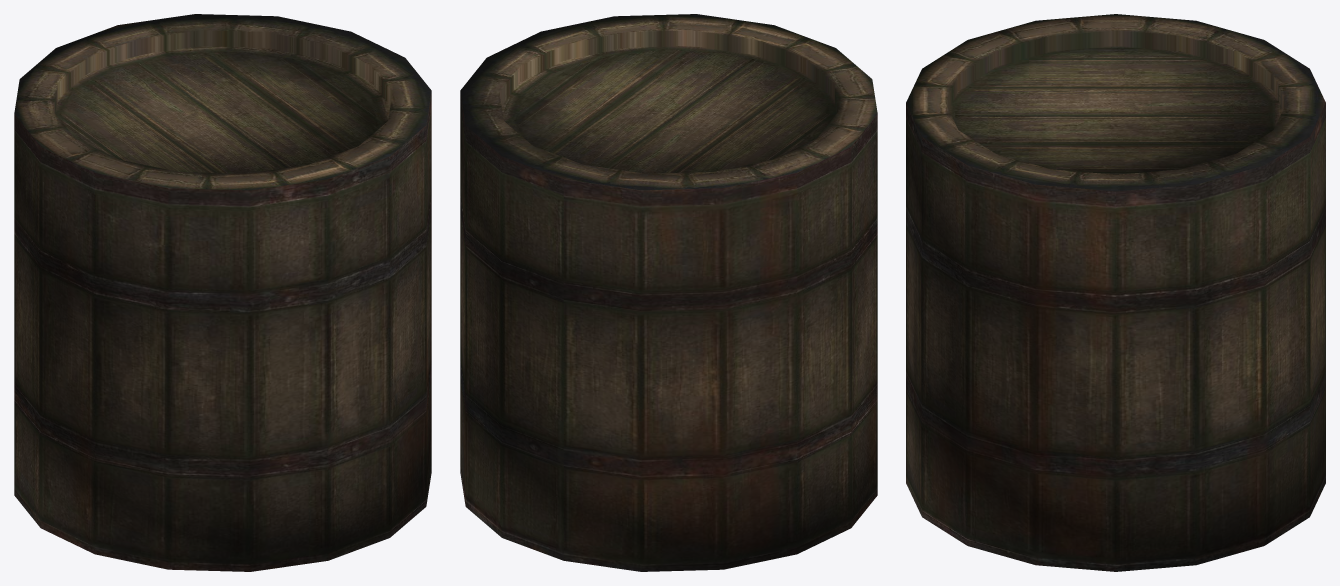
File: barrilv2.fbx
3 renders of one model, left to right at view 1: azimuth 30°, elevation 25°; view 2: azimuth 150°, elevation 25°; view 3: azimuth 270°, elevation 25°, orthographic.
Parts seen in each view (by area): view 1: barril; view 2: barril; view 3: barril.
Part boxes in pixels (x1=…): barril: x1=14, y1=14, x2=431, y2=571; barril: x1=460, y1=14, x2=877, y2=571; barril: x1=906, y1=14, x2=1325, y2=571.
Bounding box in the file's own units: 200 × 200 × 200.
Materials: 1 (1 with a texture image).
